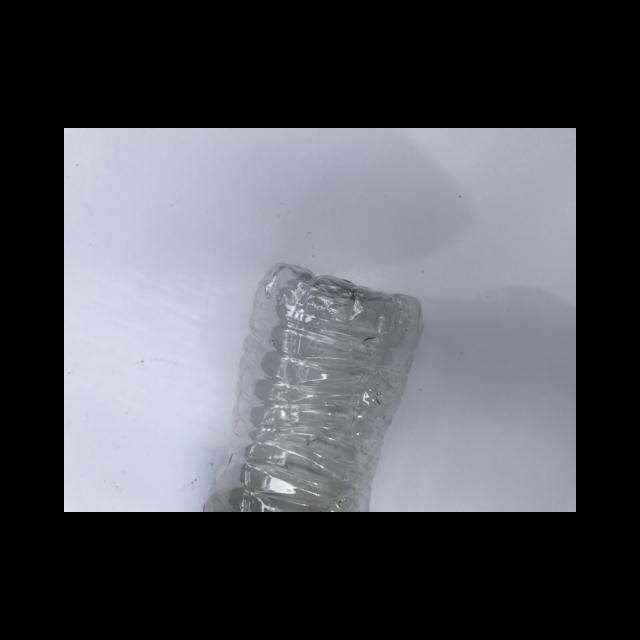plastic: (203, 262, 422, 511)
